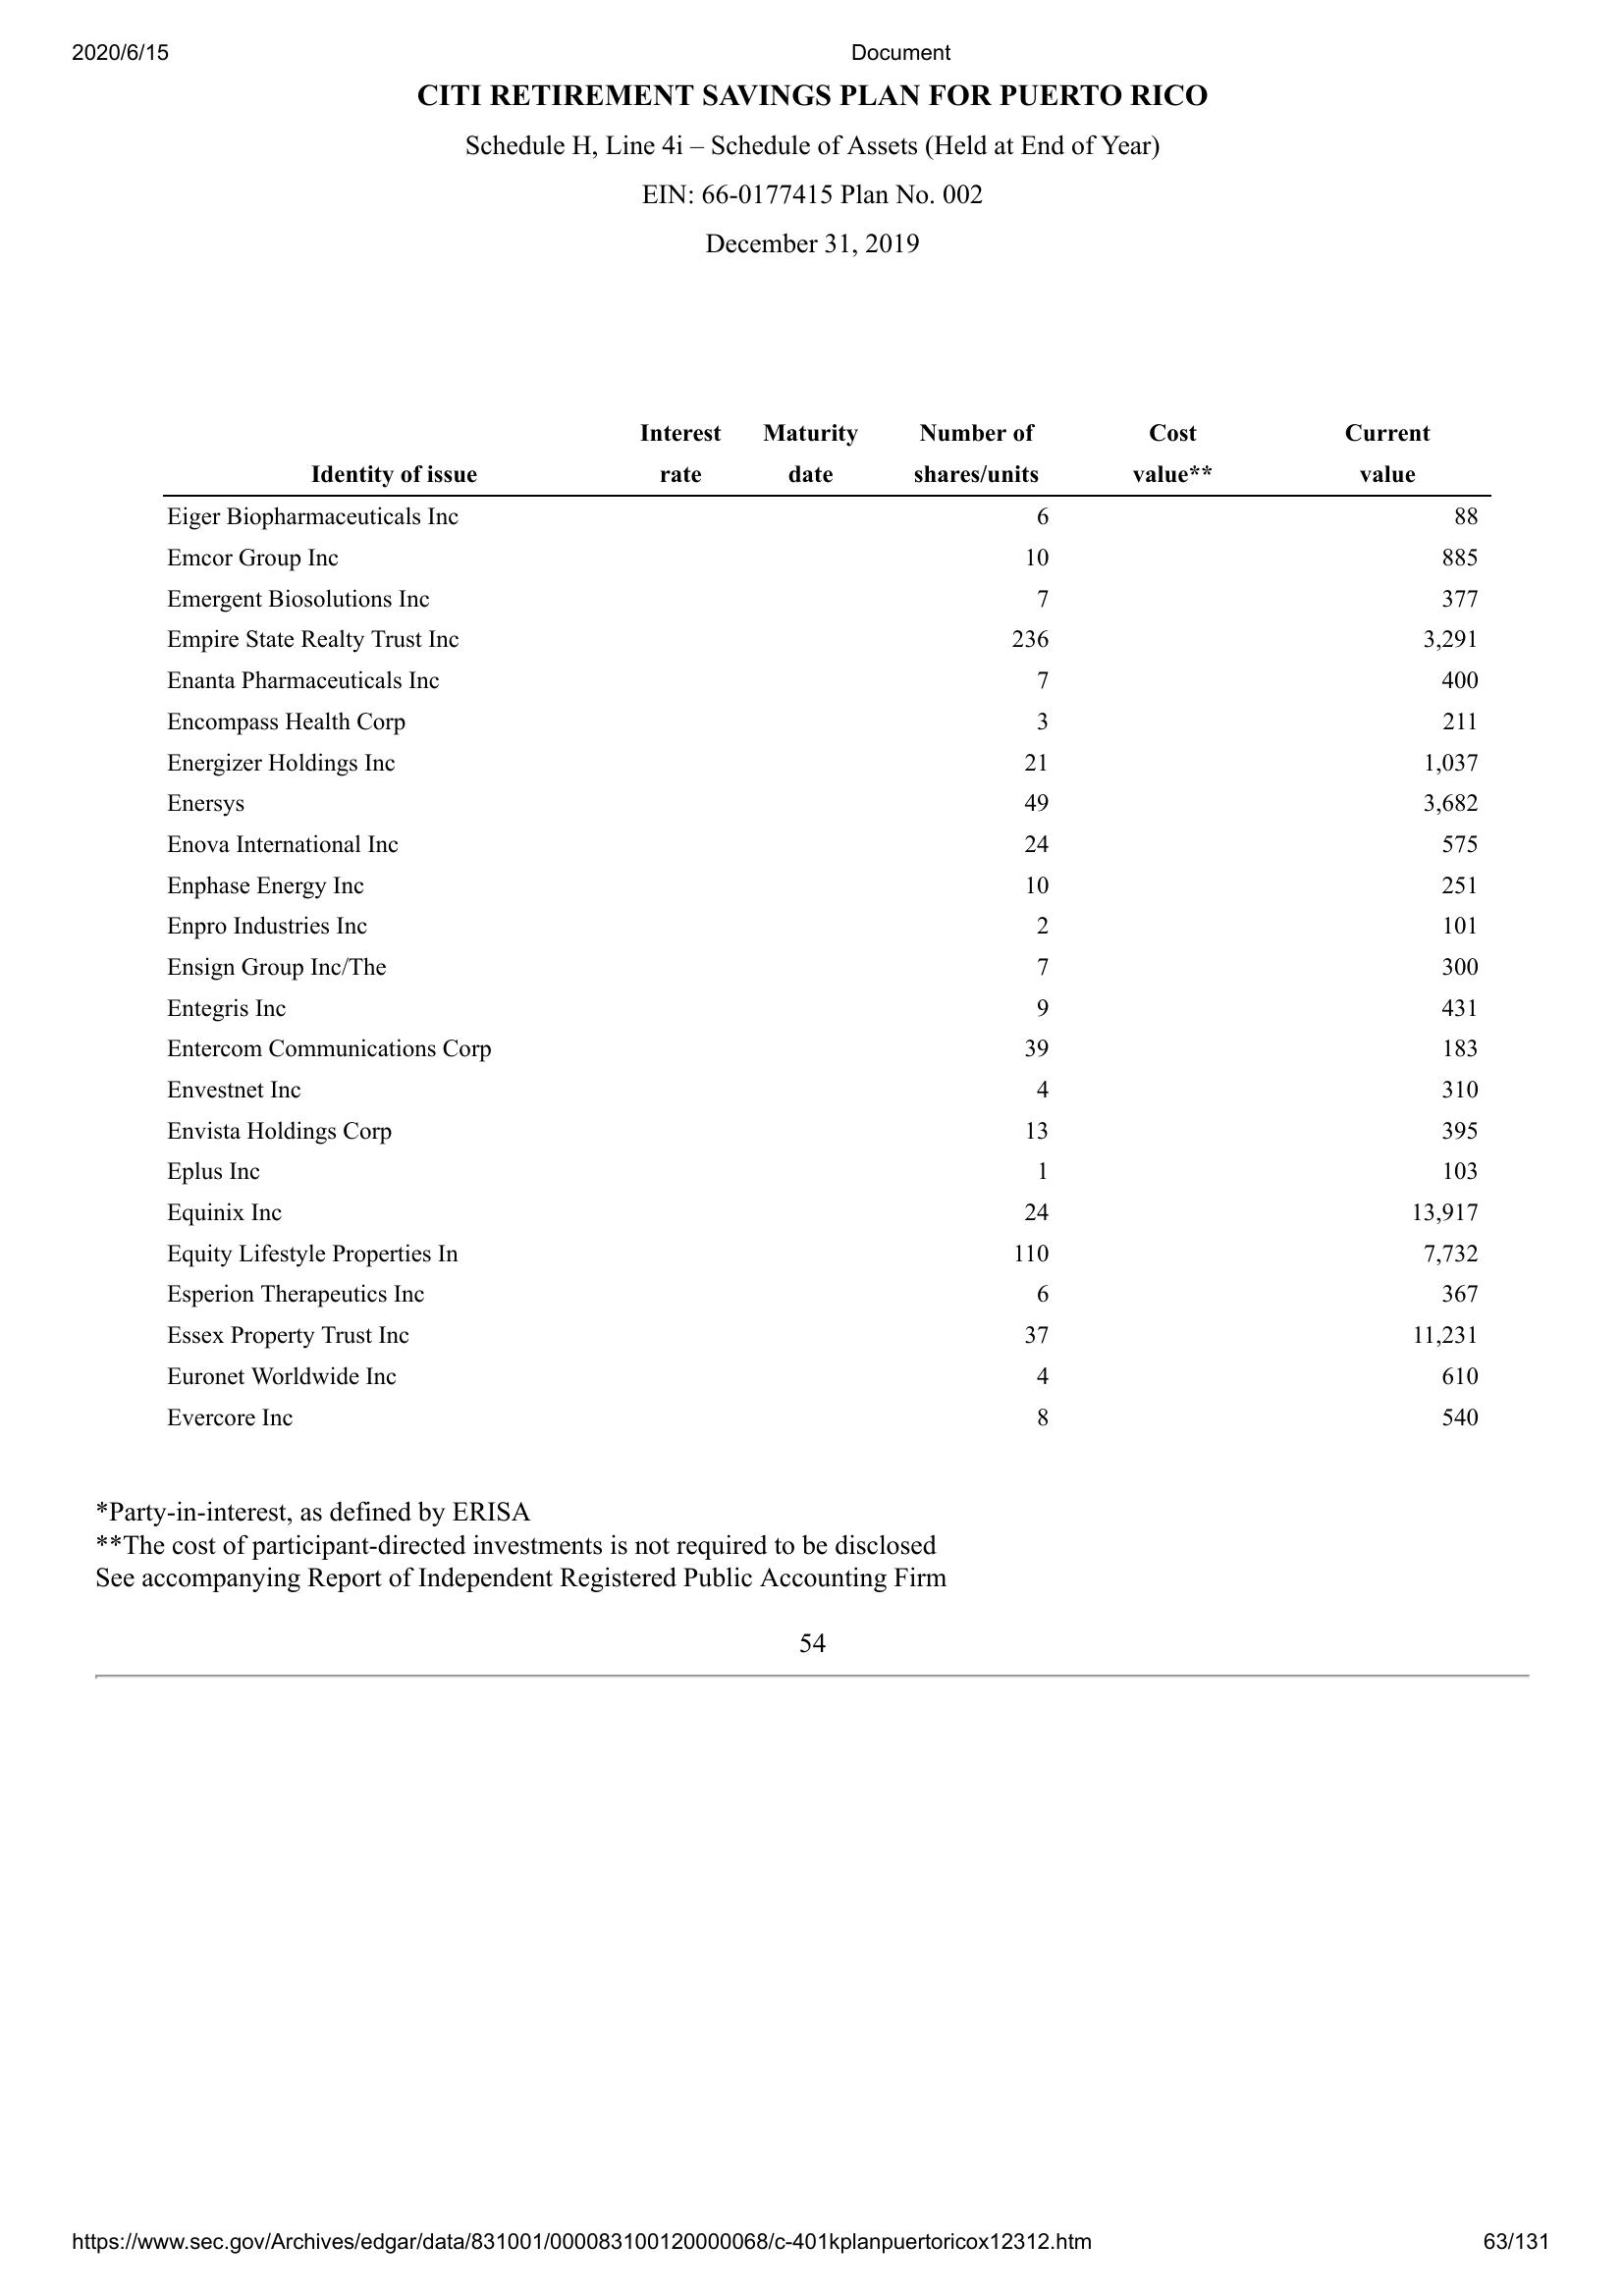table: (160, 420, 1497, 1448)
